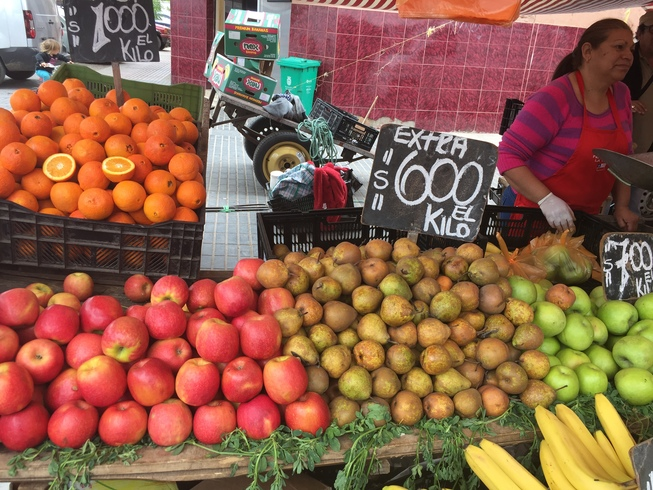precio: (356, 117, 505, 257), (57, 1, 169, 71), (592, 226, 653, 310)
